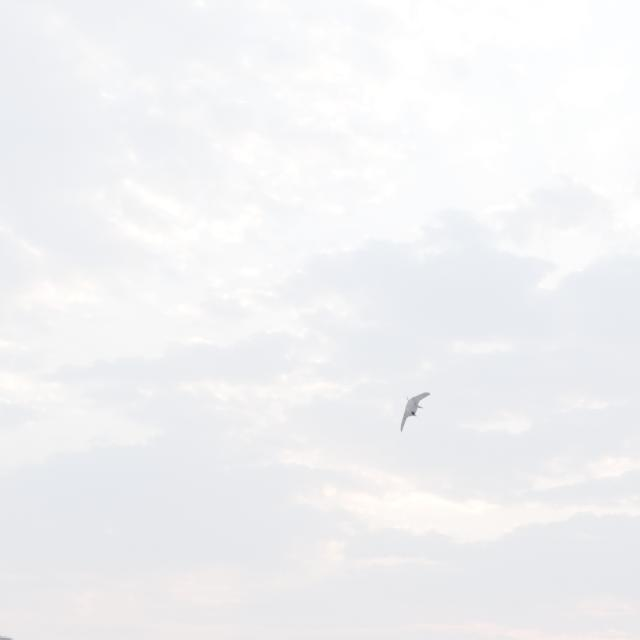Airaplan: (400, 392, 430, 433)
